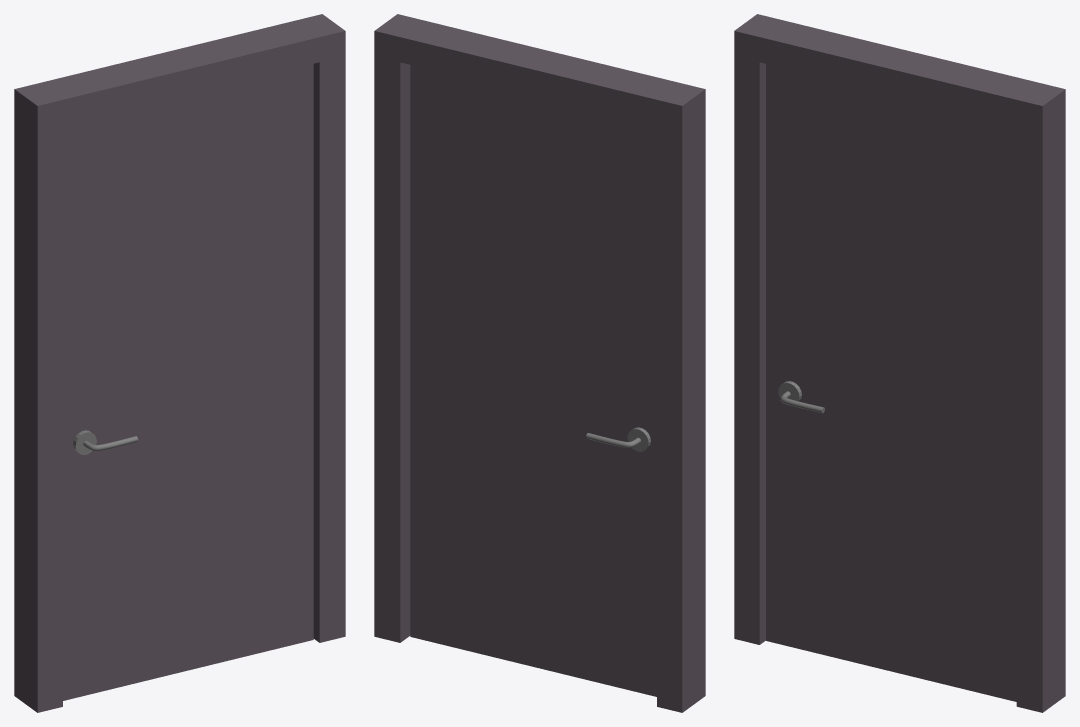
The model's file is Door 2.fbx.
3 views of the same model, side by side, from view 1: azimuth 30°, elevation 25°; view 2: azimuth 150°, elevation 25°; view 3: azimuth 330°, elevation 25° (orthographic).
Parts seen in each view (by area): view 1: Door 2, door frame 2; view 2: Door 2, door frame 2; view 3: Door 2, door frame 2.
Boxes of the visible parts, <box> form: Door 2: <box>63,64,313,700</box>; door frame 2: <box>14,14,345,712</box>; Door 2: <box>410,65,656,696</box>; door frame 2: <box>374,14,705,712</box>; Door 2: <box>766,64,1016,701</box>; door frame 2: <box>734,14,1065,712</box>.
Size of the model in its own units: 117 by 221 by 21.34.
2 materials, 1 textured.
